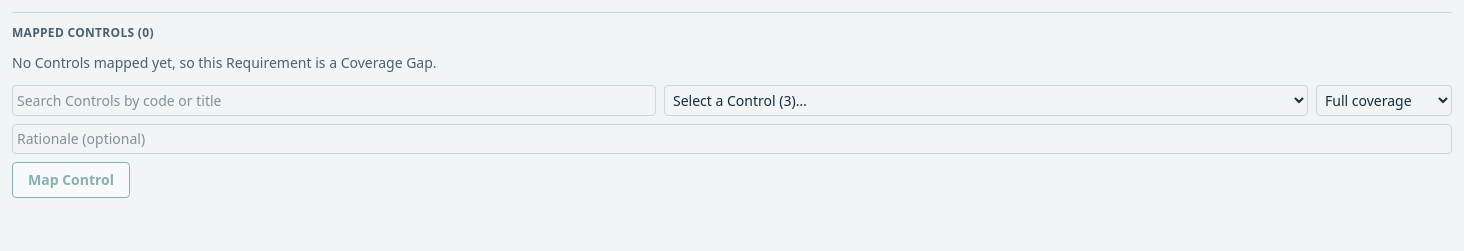
ControlMappingEditor › shows the server's error and does not reload when a change is refused
Select "A.8.24 — Use of cryptography" in the dropdown named "Control to map to Art. 21": (986, 100) [664,85,1308,116]
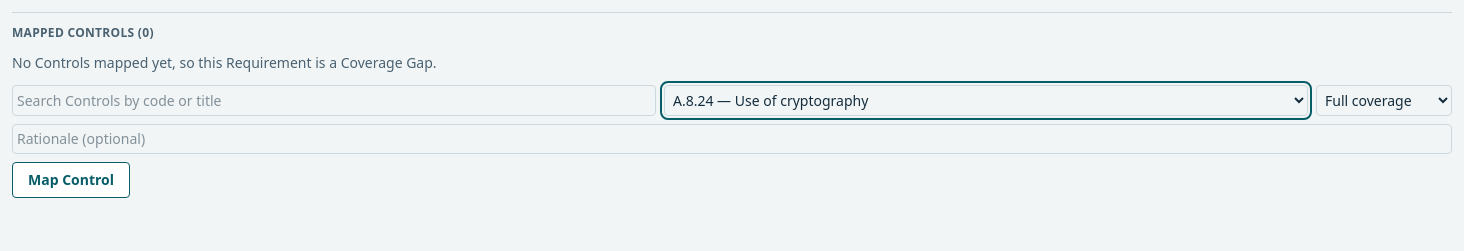
Click the button "Map Control": (71, 180) [12,162,130,198]
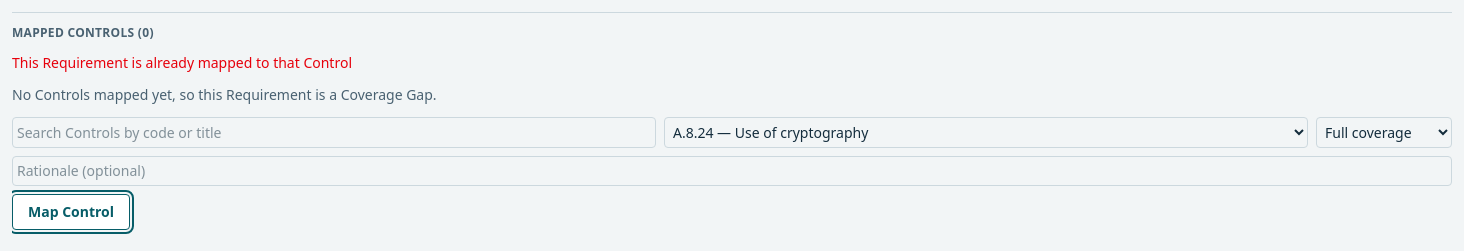
Expected: the message shows "already mapped to that Control", [12,53,352,72]
